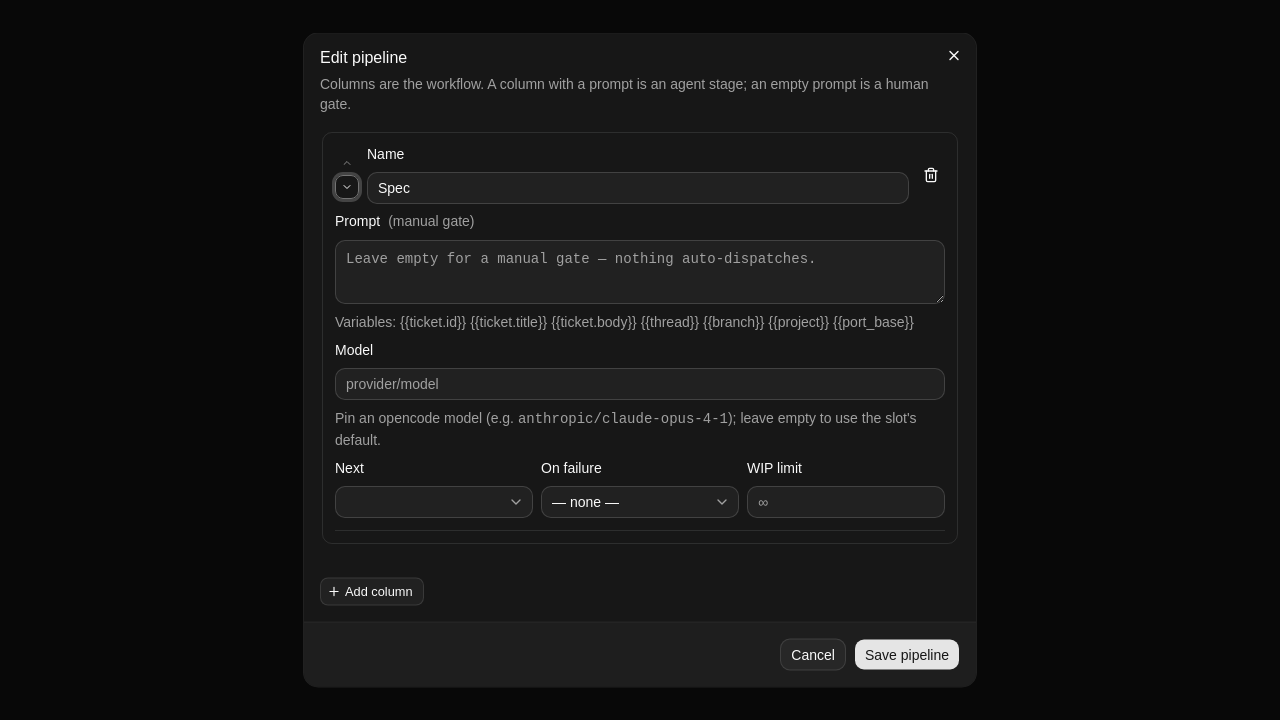
Test: ColumnEditorDialog — pipeline edits › removes a column
This screenshot has width=1280, height=720.
Click the button named "remove column".
click(931, 174)  # box [917,160,945,188]
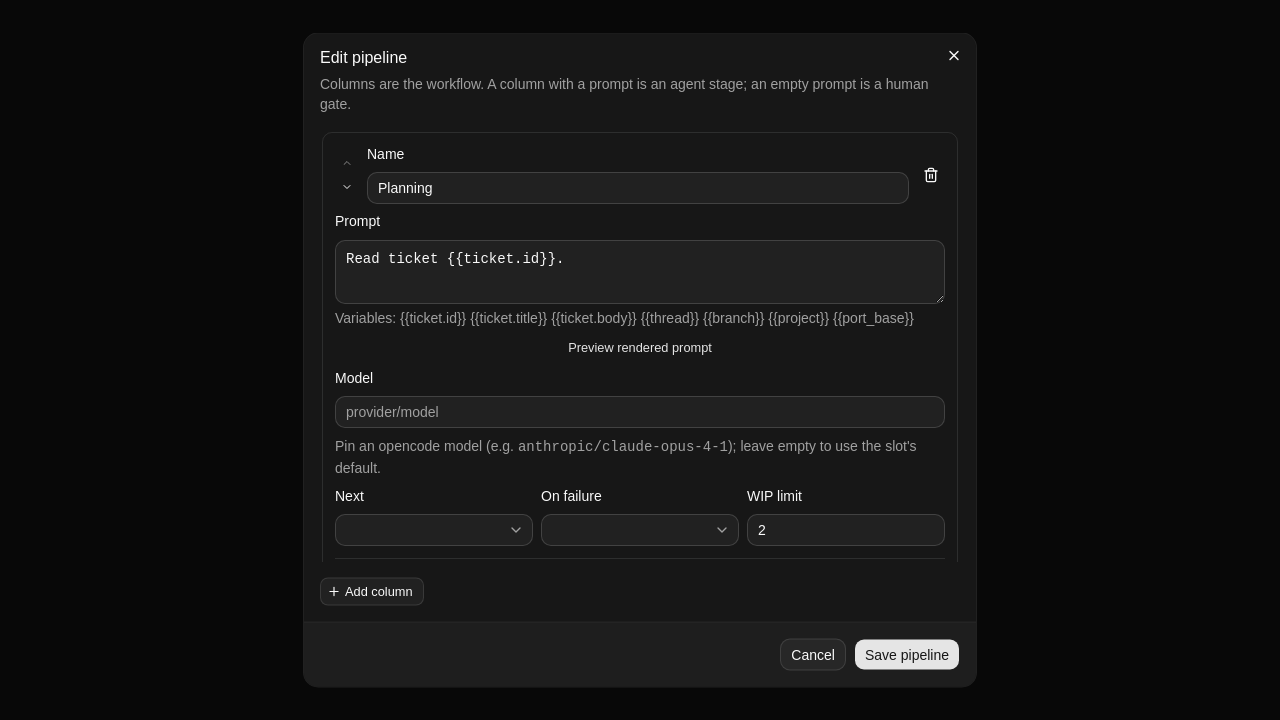
Result: the number of fields is 2
